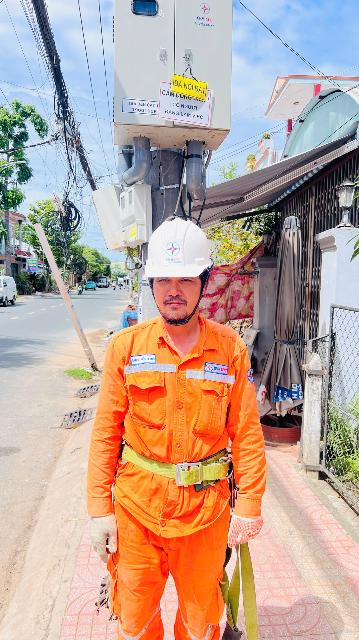gloves: (84, 507, 129, 567), (221, 501, 270, 552)
harness: (117, 439, 235, 493)
helmet: (135, 215, 219, 285)
